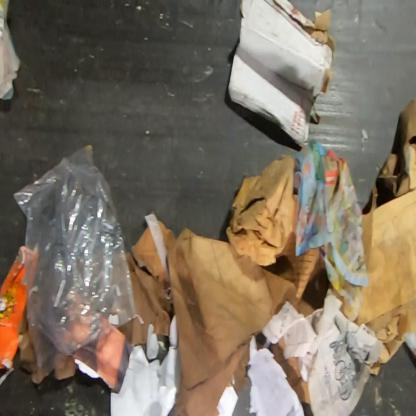cardboard: (226, 0, 336, 151), (360, 99, 415, 216), (262, 231, 333, 320), (129, 212, 176, 289), (0, 244, 27, 375), (268, 335, 309, 405)
soft_plastic: (11, 142, 138, 386)
